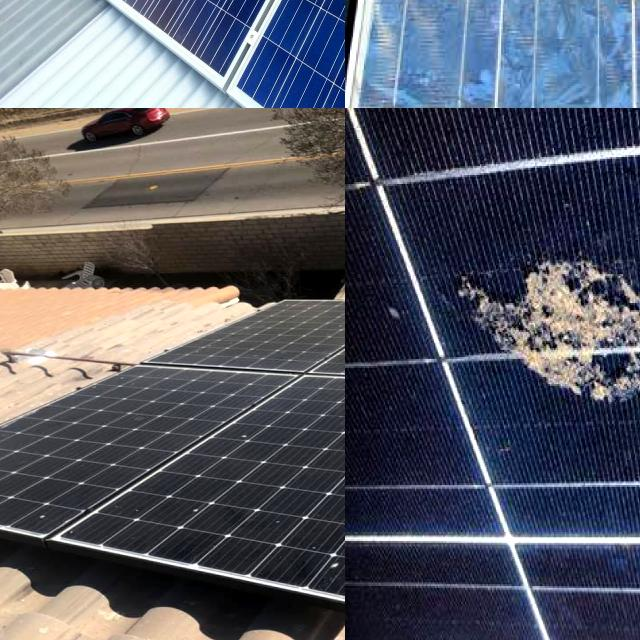bird: (434, 225, 640, 434)
crack: (1, 0, 296, 108), (91, 0, 345, 108), (236, 0, 345, 108)
dust: (298, 543, 345, 597)
shadow: (598, 0, 640, 32), (607, 0, 640, 37)
